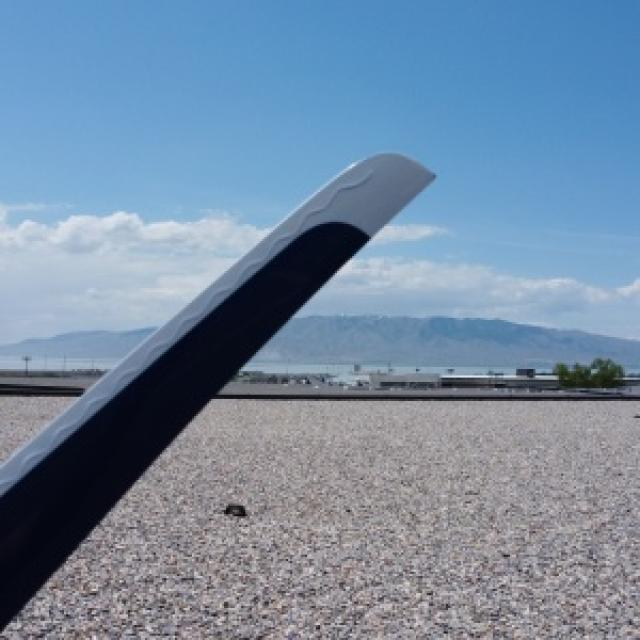healthy: (0, 151, 433, 627)
